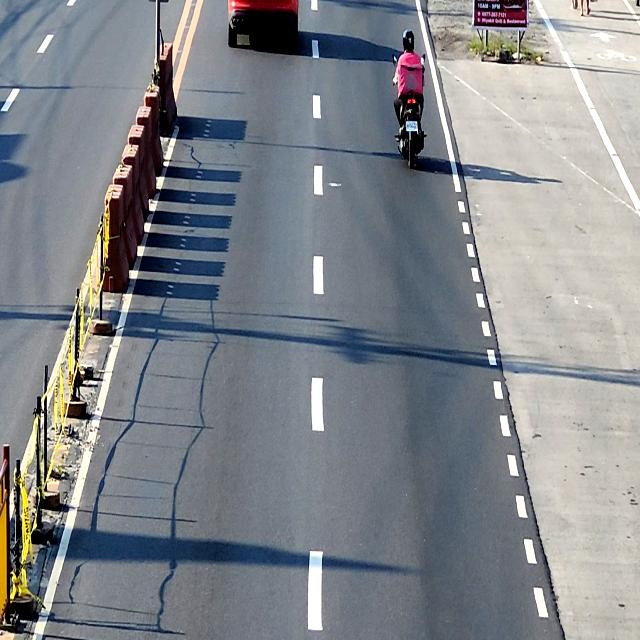Car: (228, 0, 299, 51)
License-Plate: (406, 120, 418, 132)
Motorcycle: (392, 53, 426, 170)
